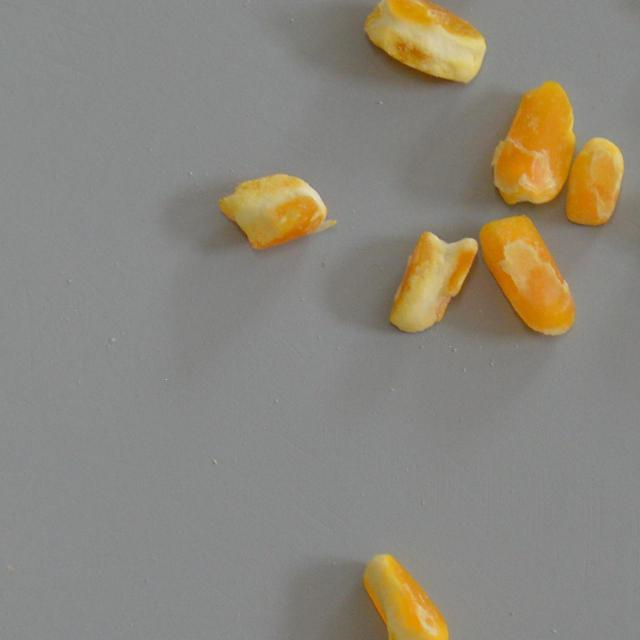pelicula: (477, 213, 577, 336), (490, 78, 576, 204), (362, 0, 488, 85), (387, 229, 478, 334), (217, 172, 336, 252), (355, 552, 455, 640), (563, 134, 624, 226)
